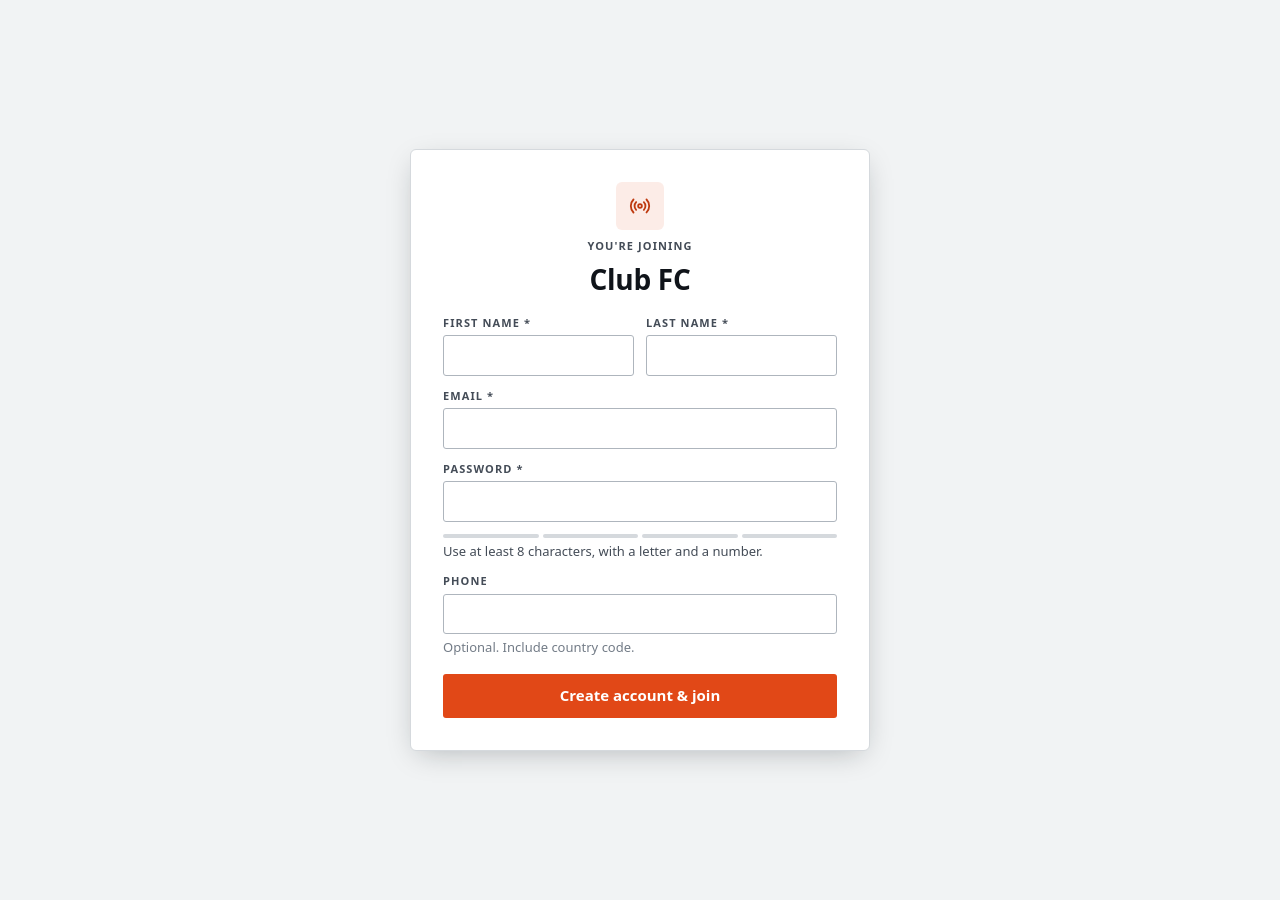
JoinLanding (FR-017/018/028/029; M1, L7) › unauthenticated: registers, sets the session, and surfaces the verify-email banner (L7)
In the field labelled "First name *": (538, 356) [443,335,634,376], type "New"
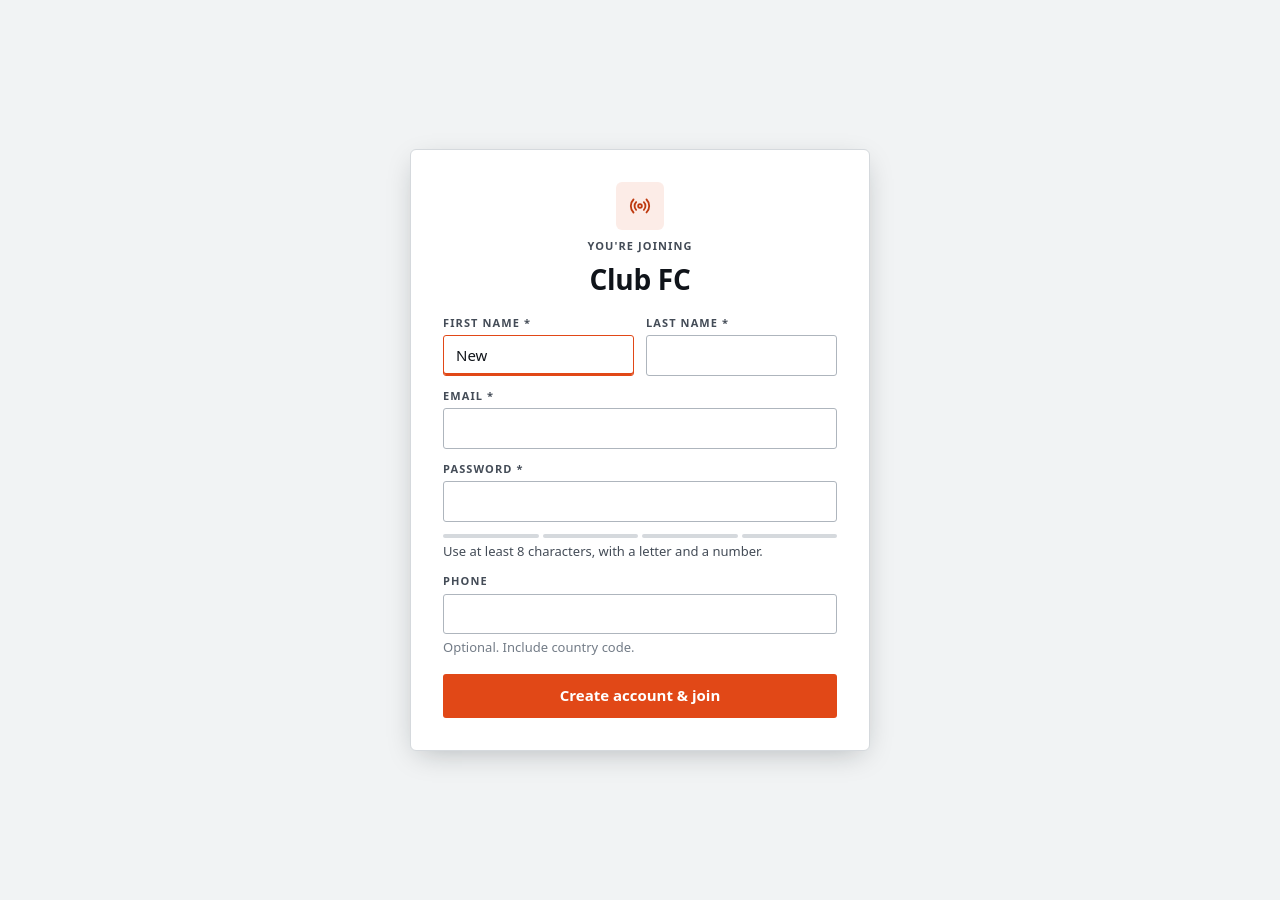
In the field labelled "Last name *": (742, 356) [646,335,837,376], type "Player"
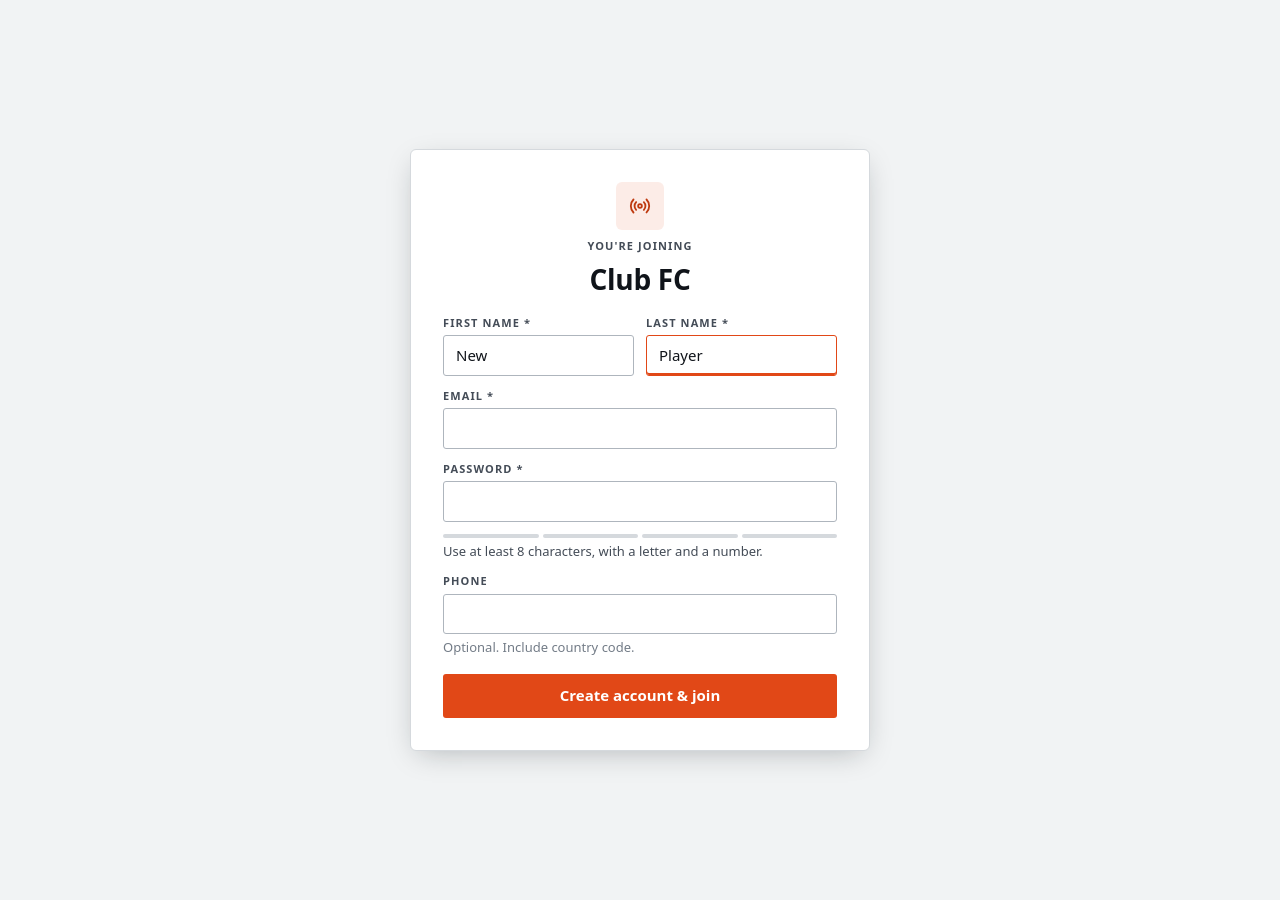
In the field labelled "Email *": (640, 429) [443,408,837,449], type "newplayer@home.com"
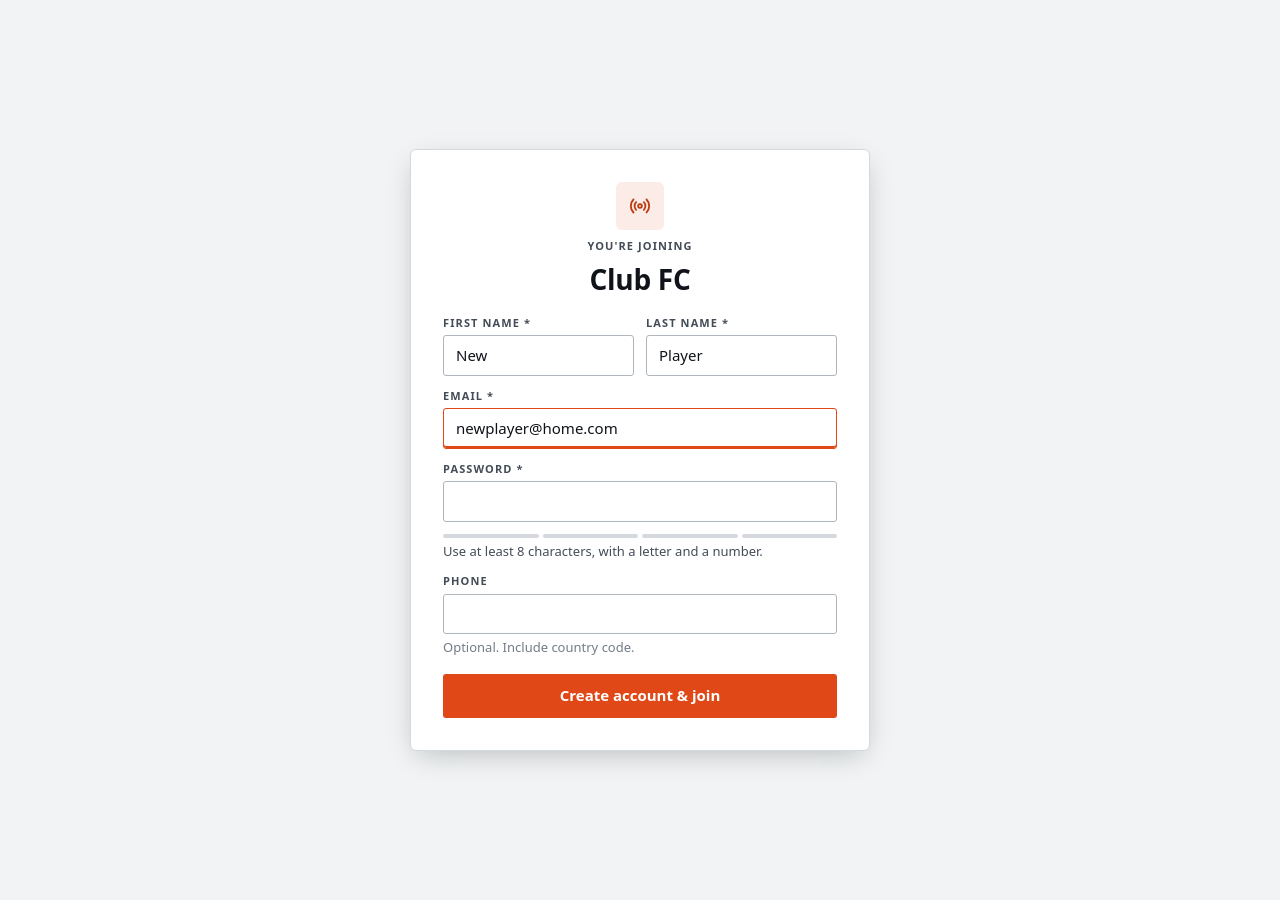
In the password field labelled "Password *": (640, 502) [443,481,837,522], type "password1"
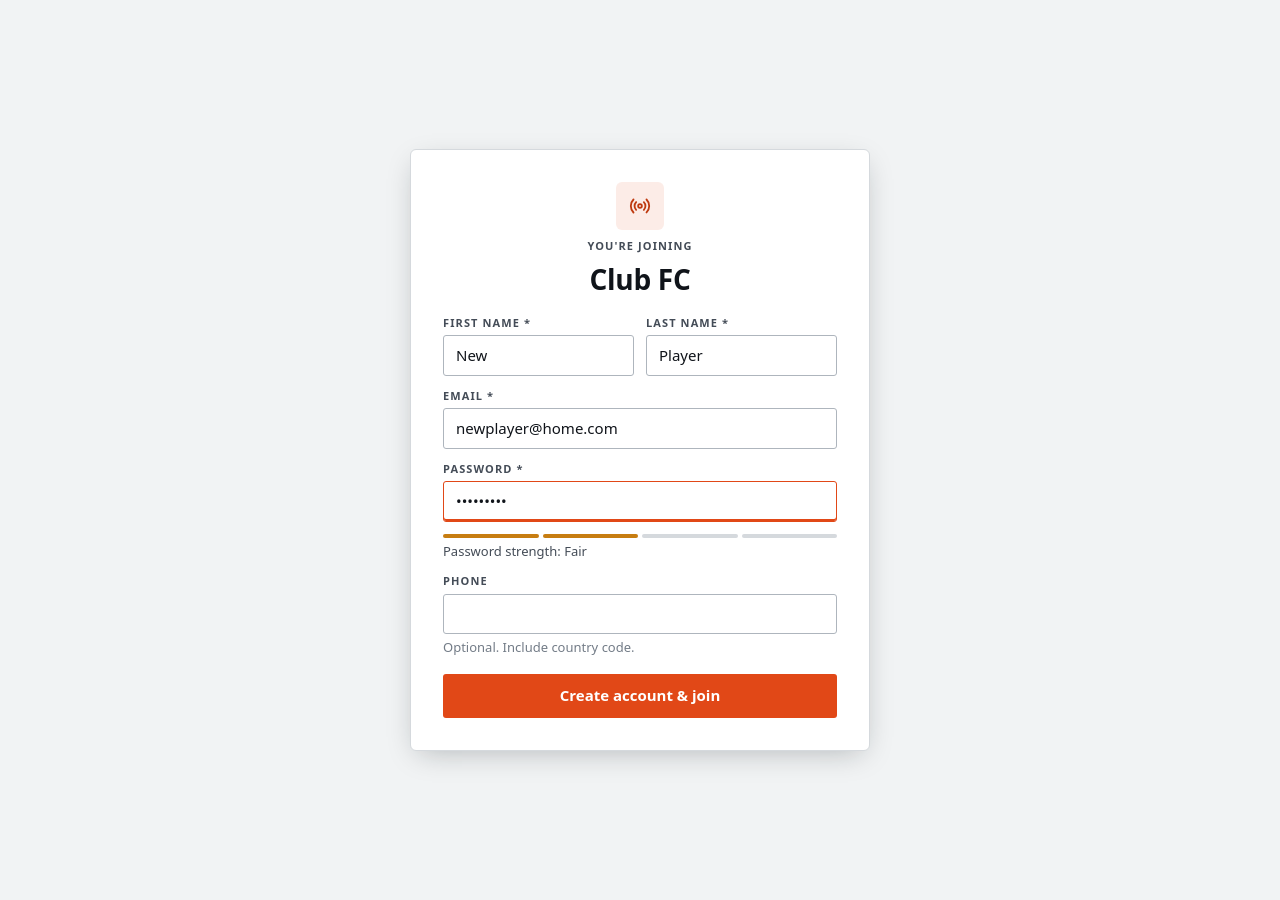
Click the button "Create account & join": (640, 696) [443,674,837,718]
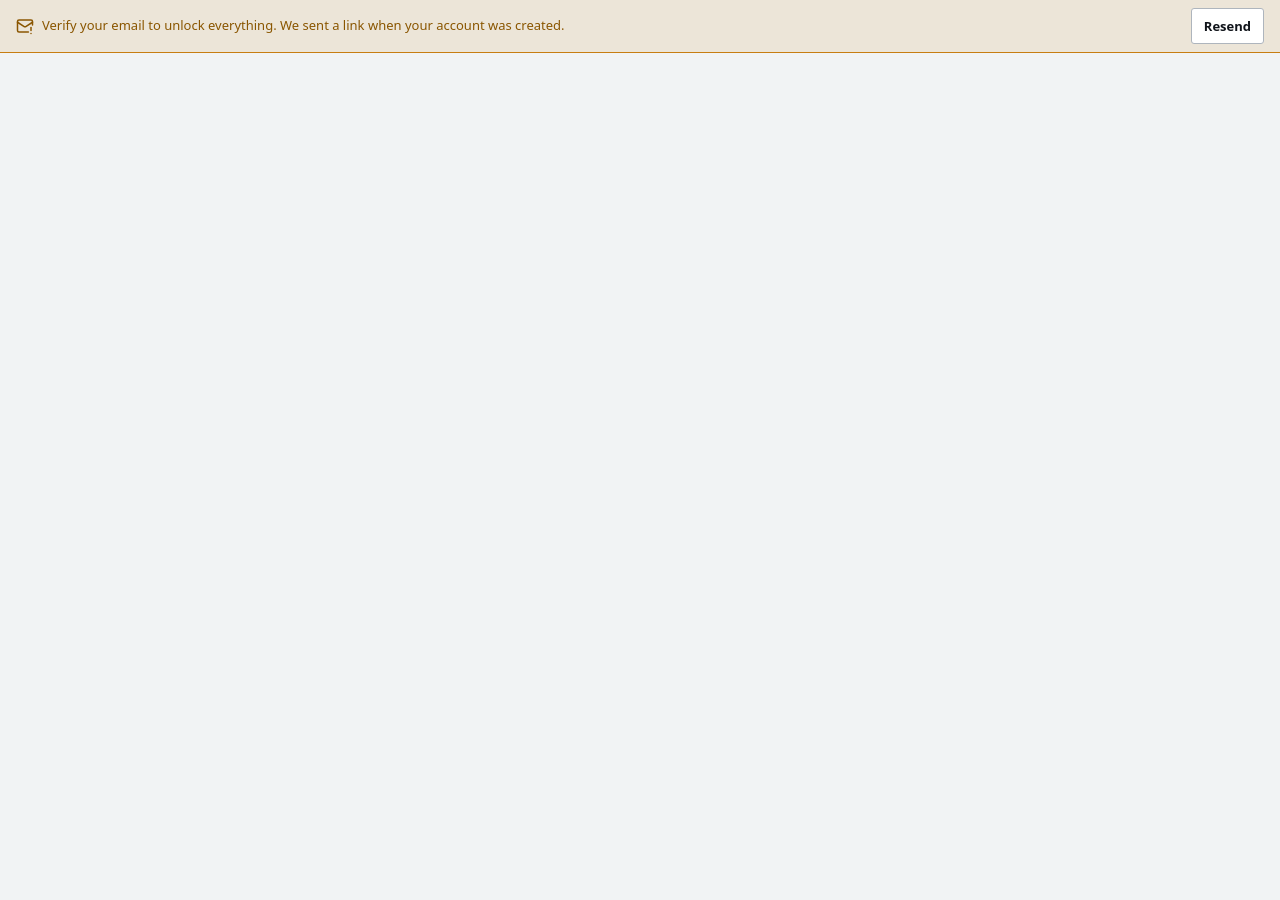
Check: the text "Verify your email" is shown, box [42,16,565,34]
